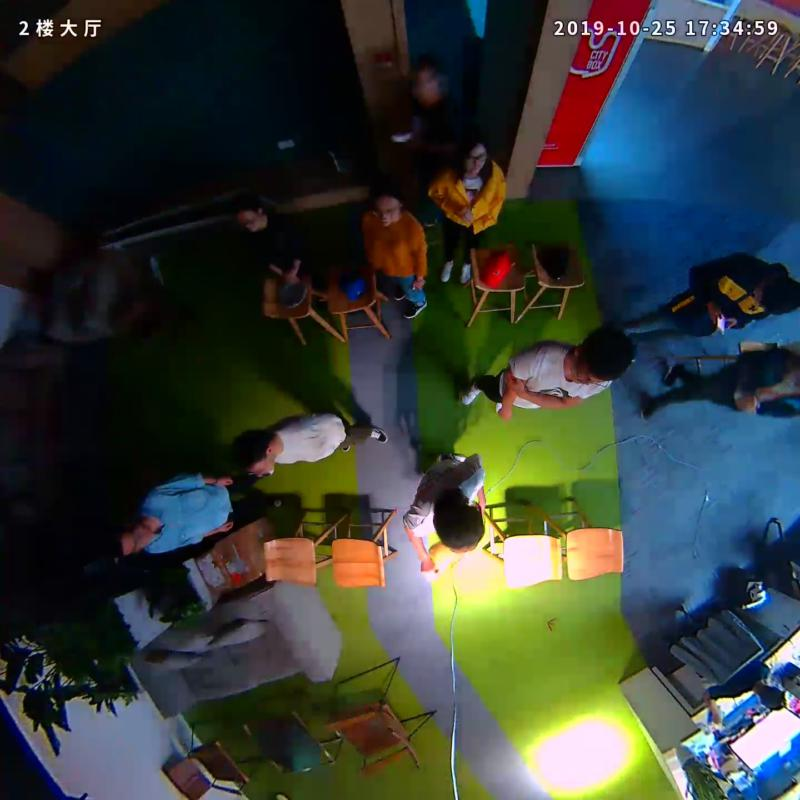head: (571, 325, 633, 388), (434, 498, 486, 554), (231, 429, 277, 478), (756, 273, 800, 318), (107, 520, 153, 558), (369, 183, 404, 229), (410, 59, 445, 105), (455, 134, 491, 177), (234, 192, 268, 231)
